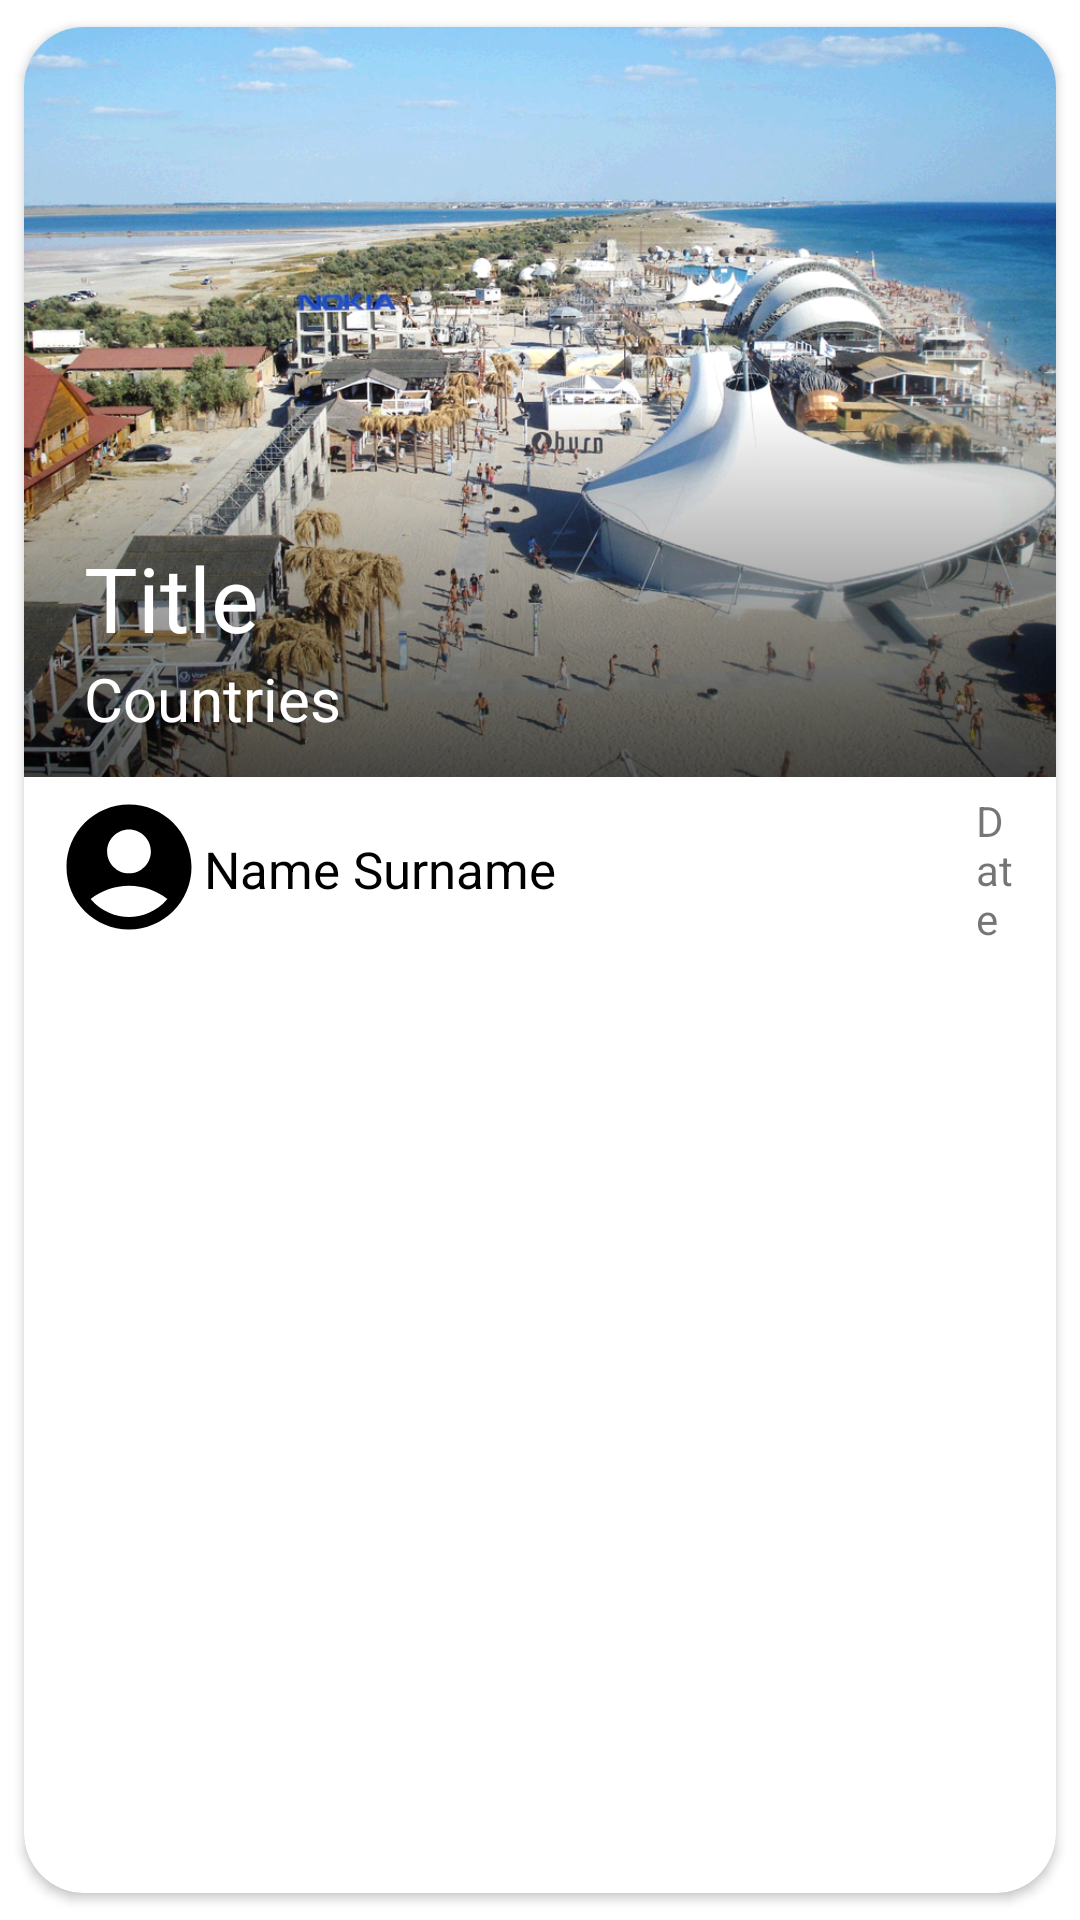

Where to tap for icons on this 1080 × 1920 app screen, as (x=x, y=y):
account circle: (x=129, y=867)
